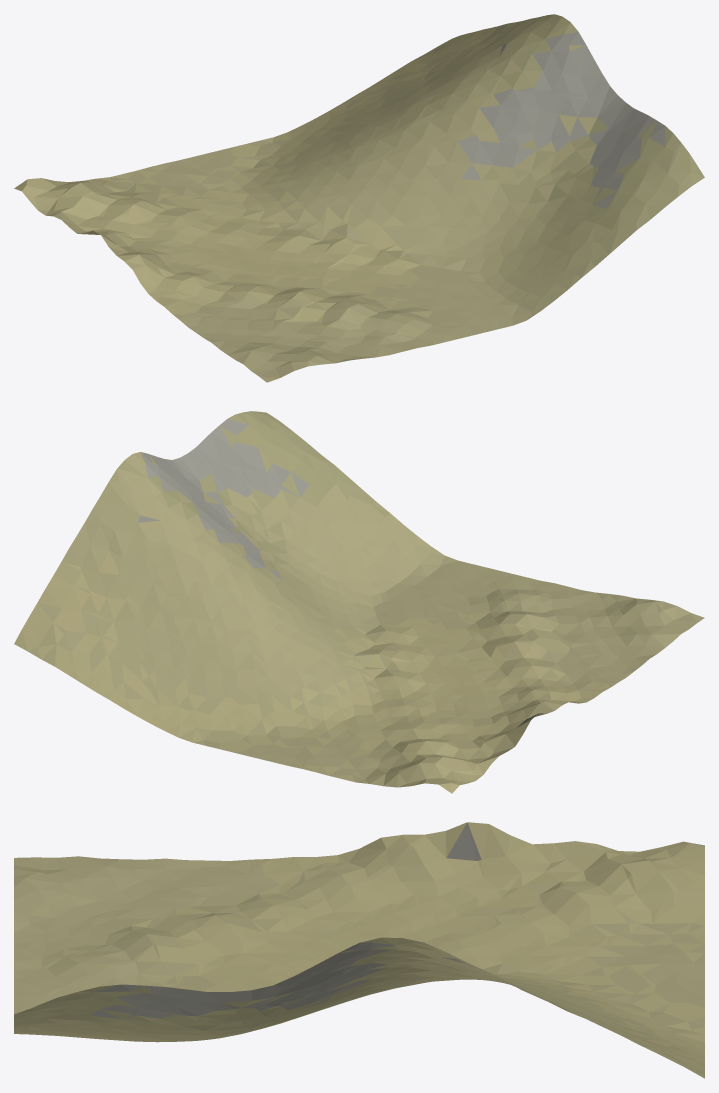
The model's file is Ground_2_1.glb.
3 renders of one model, top to bottom at view 1: azimuth 30°, elevation 25°; view 2: azimuth 150°, elevation 25°; view 3: azimuth 270°, elevation 25°, orthographic. The views are drawn at different scales.
Visible parts, largest first — view 1: Ground_2_1; view 2: Ground_2_1; view 3: Ground_2_1.
Boxes of the visible parts, x1,y1,x2,y2 form: Ground_2_1: (14,14,704,382); Ground_2_1: (14,411,704,793); Ground_2_1: (14,822,704,1078).
Size of the model in its own units: 768 by 265 by 768.
